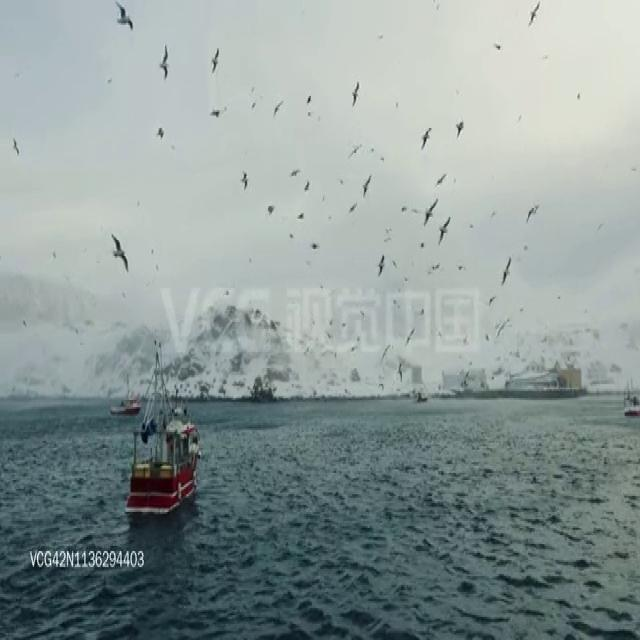fishing boat: (124, 338, 201, 514)
